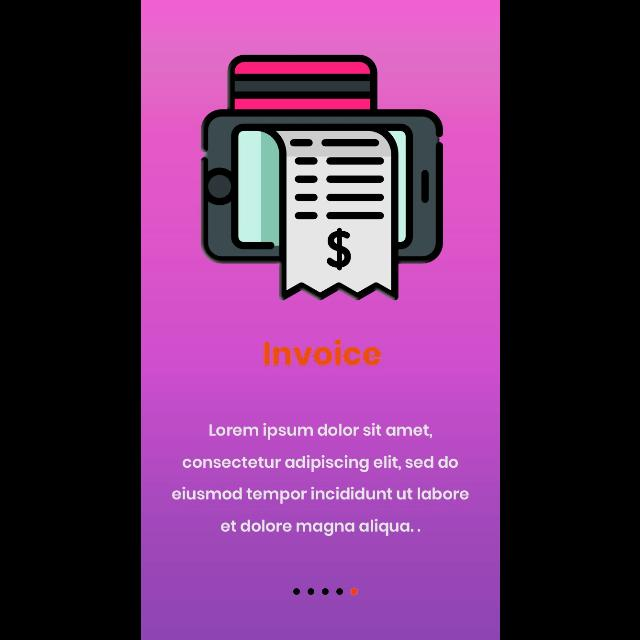image: (200, 55, 442, 302)
pageindicator: (292, 588, 358, 596)
text: (171, 423, 469, 537), (263, 339, 381, 366)
